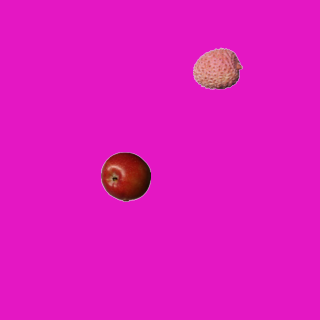Apple Braeburn: (100, 151, 150, 201)
Lychee: (192, 43, 242, 93)
